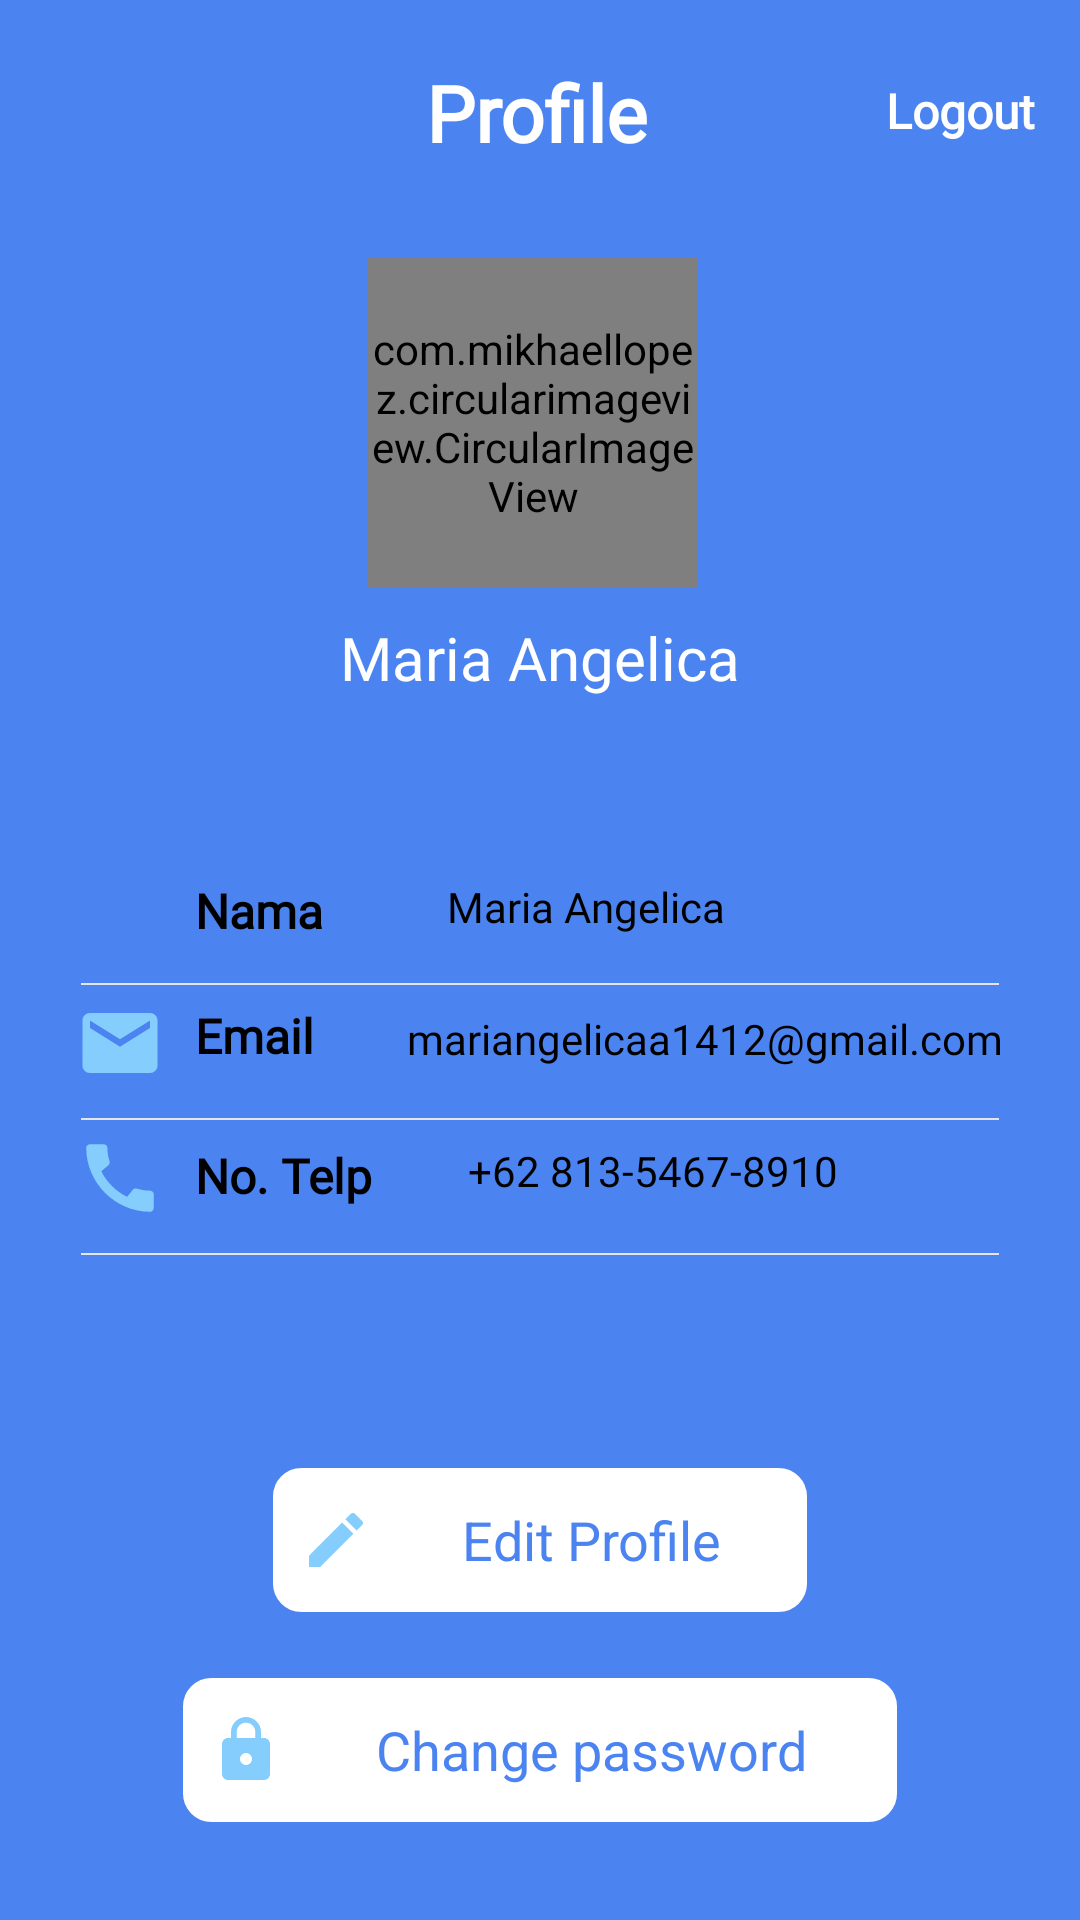

Icons on this 1080px×1920px Android screen, each with the point to tap as (x,y):
call: (120,1178)
